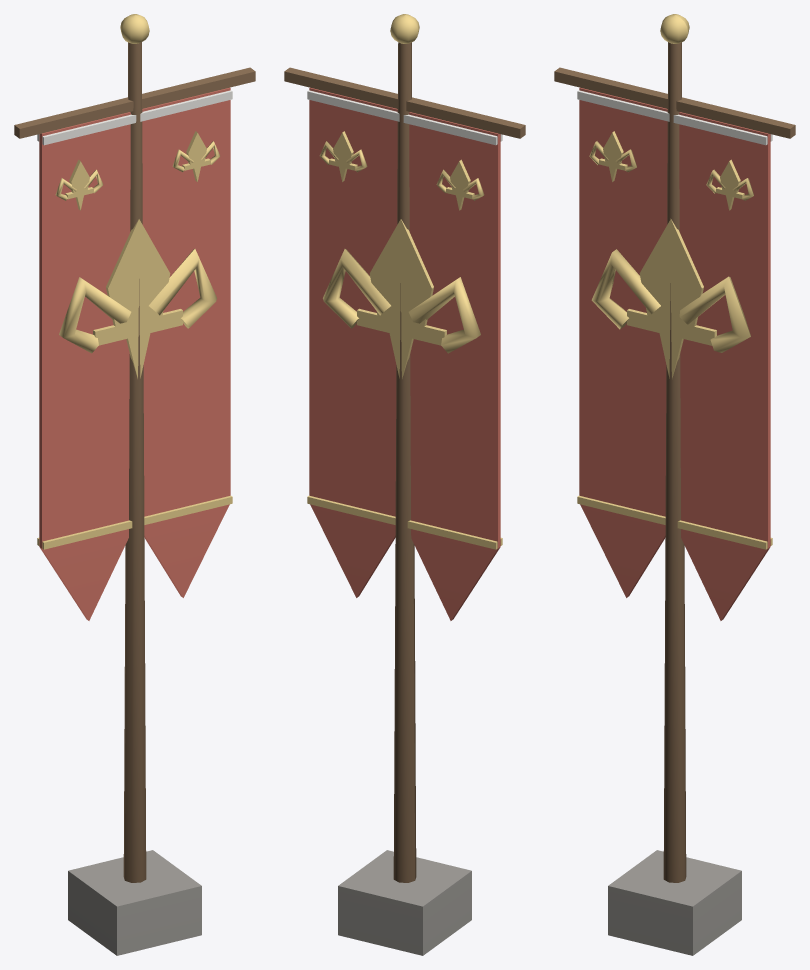
Rendered from banner_frankreich.glb.
3 renders of one model, left to right at view 1: azimuth 30°, elevation 25°; view 2: azimuth 150°, elevation 25°; view 3: azimuth 330°, elevation 25°, orthographic.
Visible parts, largest first — view 1: G_banner_frankreich; view 2: G_banner_frankreich; view 3: G_banner_frankreich.
Boxes of the visible parts, bbox=[...] form: G_banner_frankreich: bbox=[14, 14, 255, 955]; G_banner_frankreich: bbox=[284, 14, 525, 955]; G_banner_frankreich: bbox=[554, 14, 795, 955].
Bounding box in the file's own units: 2.5 × 9.24 × 0.9.
